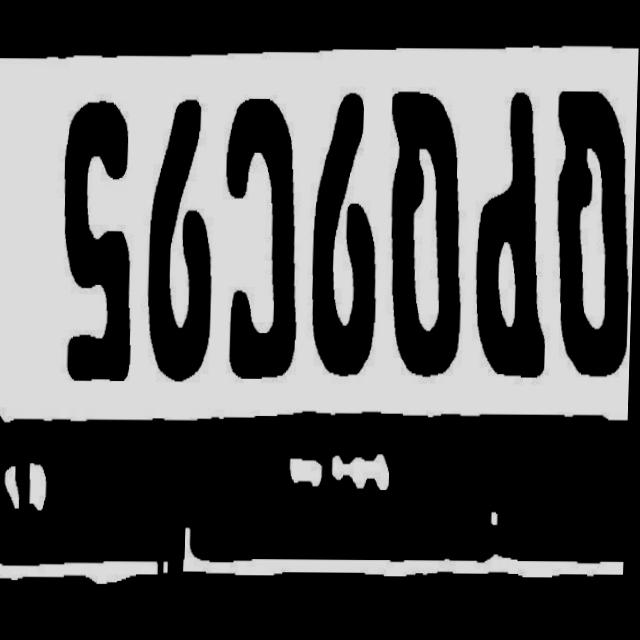5: (53, 89, 142, 394)
9: (144, 86, 221, 398), (307, 87, 385, 386)
c: (220, 86, 306, 392)
p: (471, 78, 556, 387)
q: (545, 75, 638, 398), (382, 79, 473, 396)
